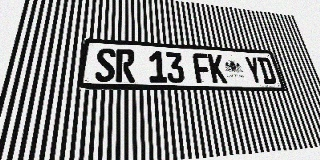1: (148, 51, 167, 83)
3: (165, 52, 185, 83)
D: (257, 57, 277, 84)
F: (192, 53, 212, 83)
K: (207, 54, 228, 84)
R: (116, 49, 135, 82)
S: (95, 48, 116, 82)
Y: (243, 56, 264, 84)
